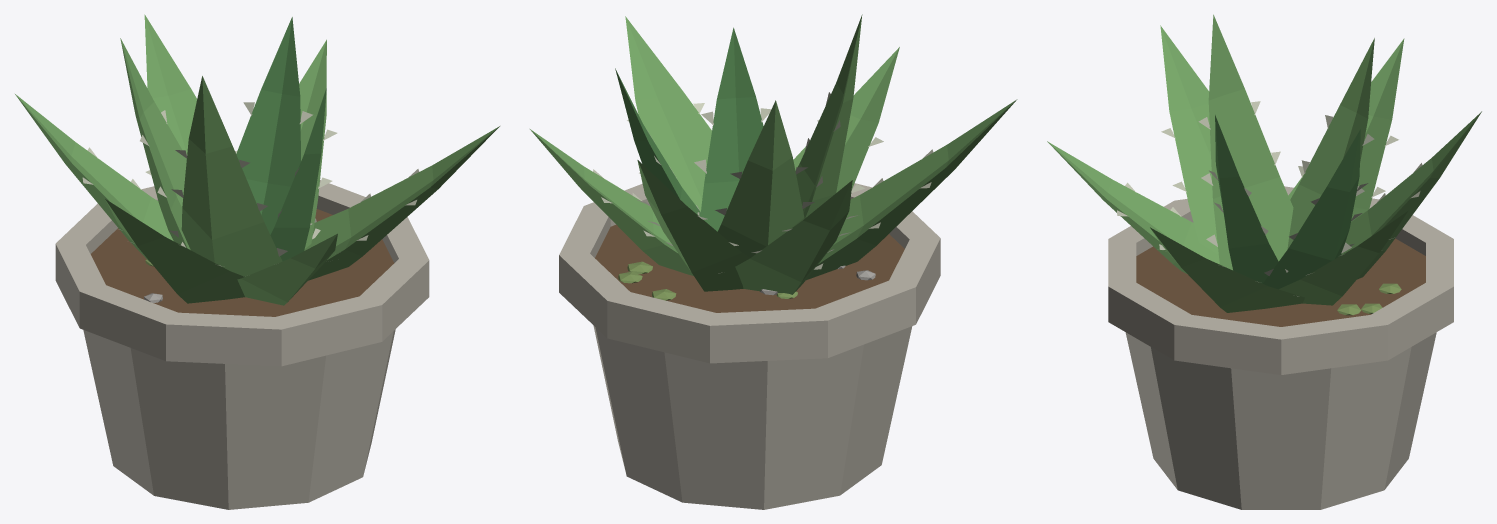
File: aloe_vera.glb
The picture shows the model from 3 angles, left to right: view 1: azimuth 30°, elevation 25°; view 2: azimuth 150°, elevation 25°; view 3: azimuth 270°, elevation 25°; orthographic projection. The views are drawn at different scales.
Parts seen in each view (by area): view 1: pot, plant; view 2: pot, plant; view 3: pot, plant.
Part boxes in pixels (left/top/right/bottom): pot: left=55, top=180, right=429, bottom=509; plant: left=15, top=14, right=499, bottom=305; pot: left=559, top=183, right=940, bottom=509; plant: left=530, top=14, right=1017, bottom=294; pot: left=1108, top=186, right=1453, bottom=509; plant: left=1047, top=14, right=1481, bottom=312.
Bounding box in the file's own units: 0.4436 × 0.4596 × 0.4438.
